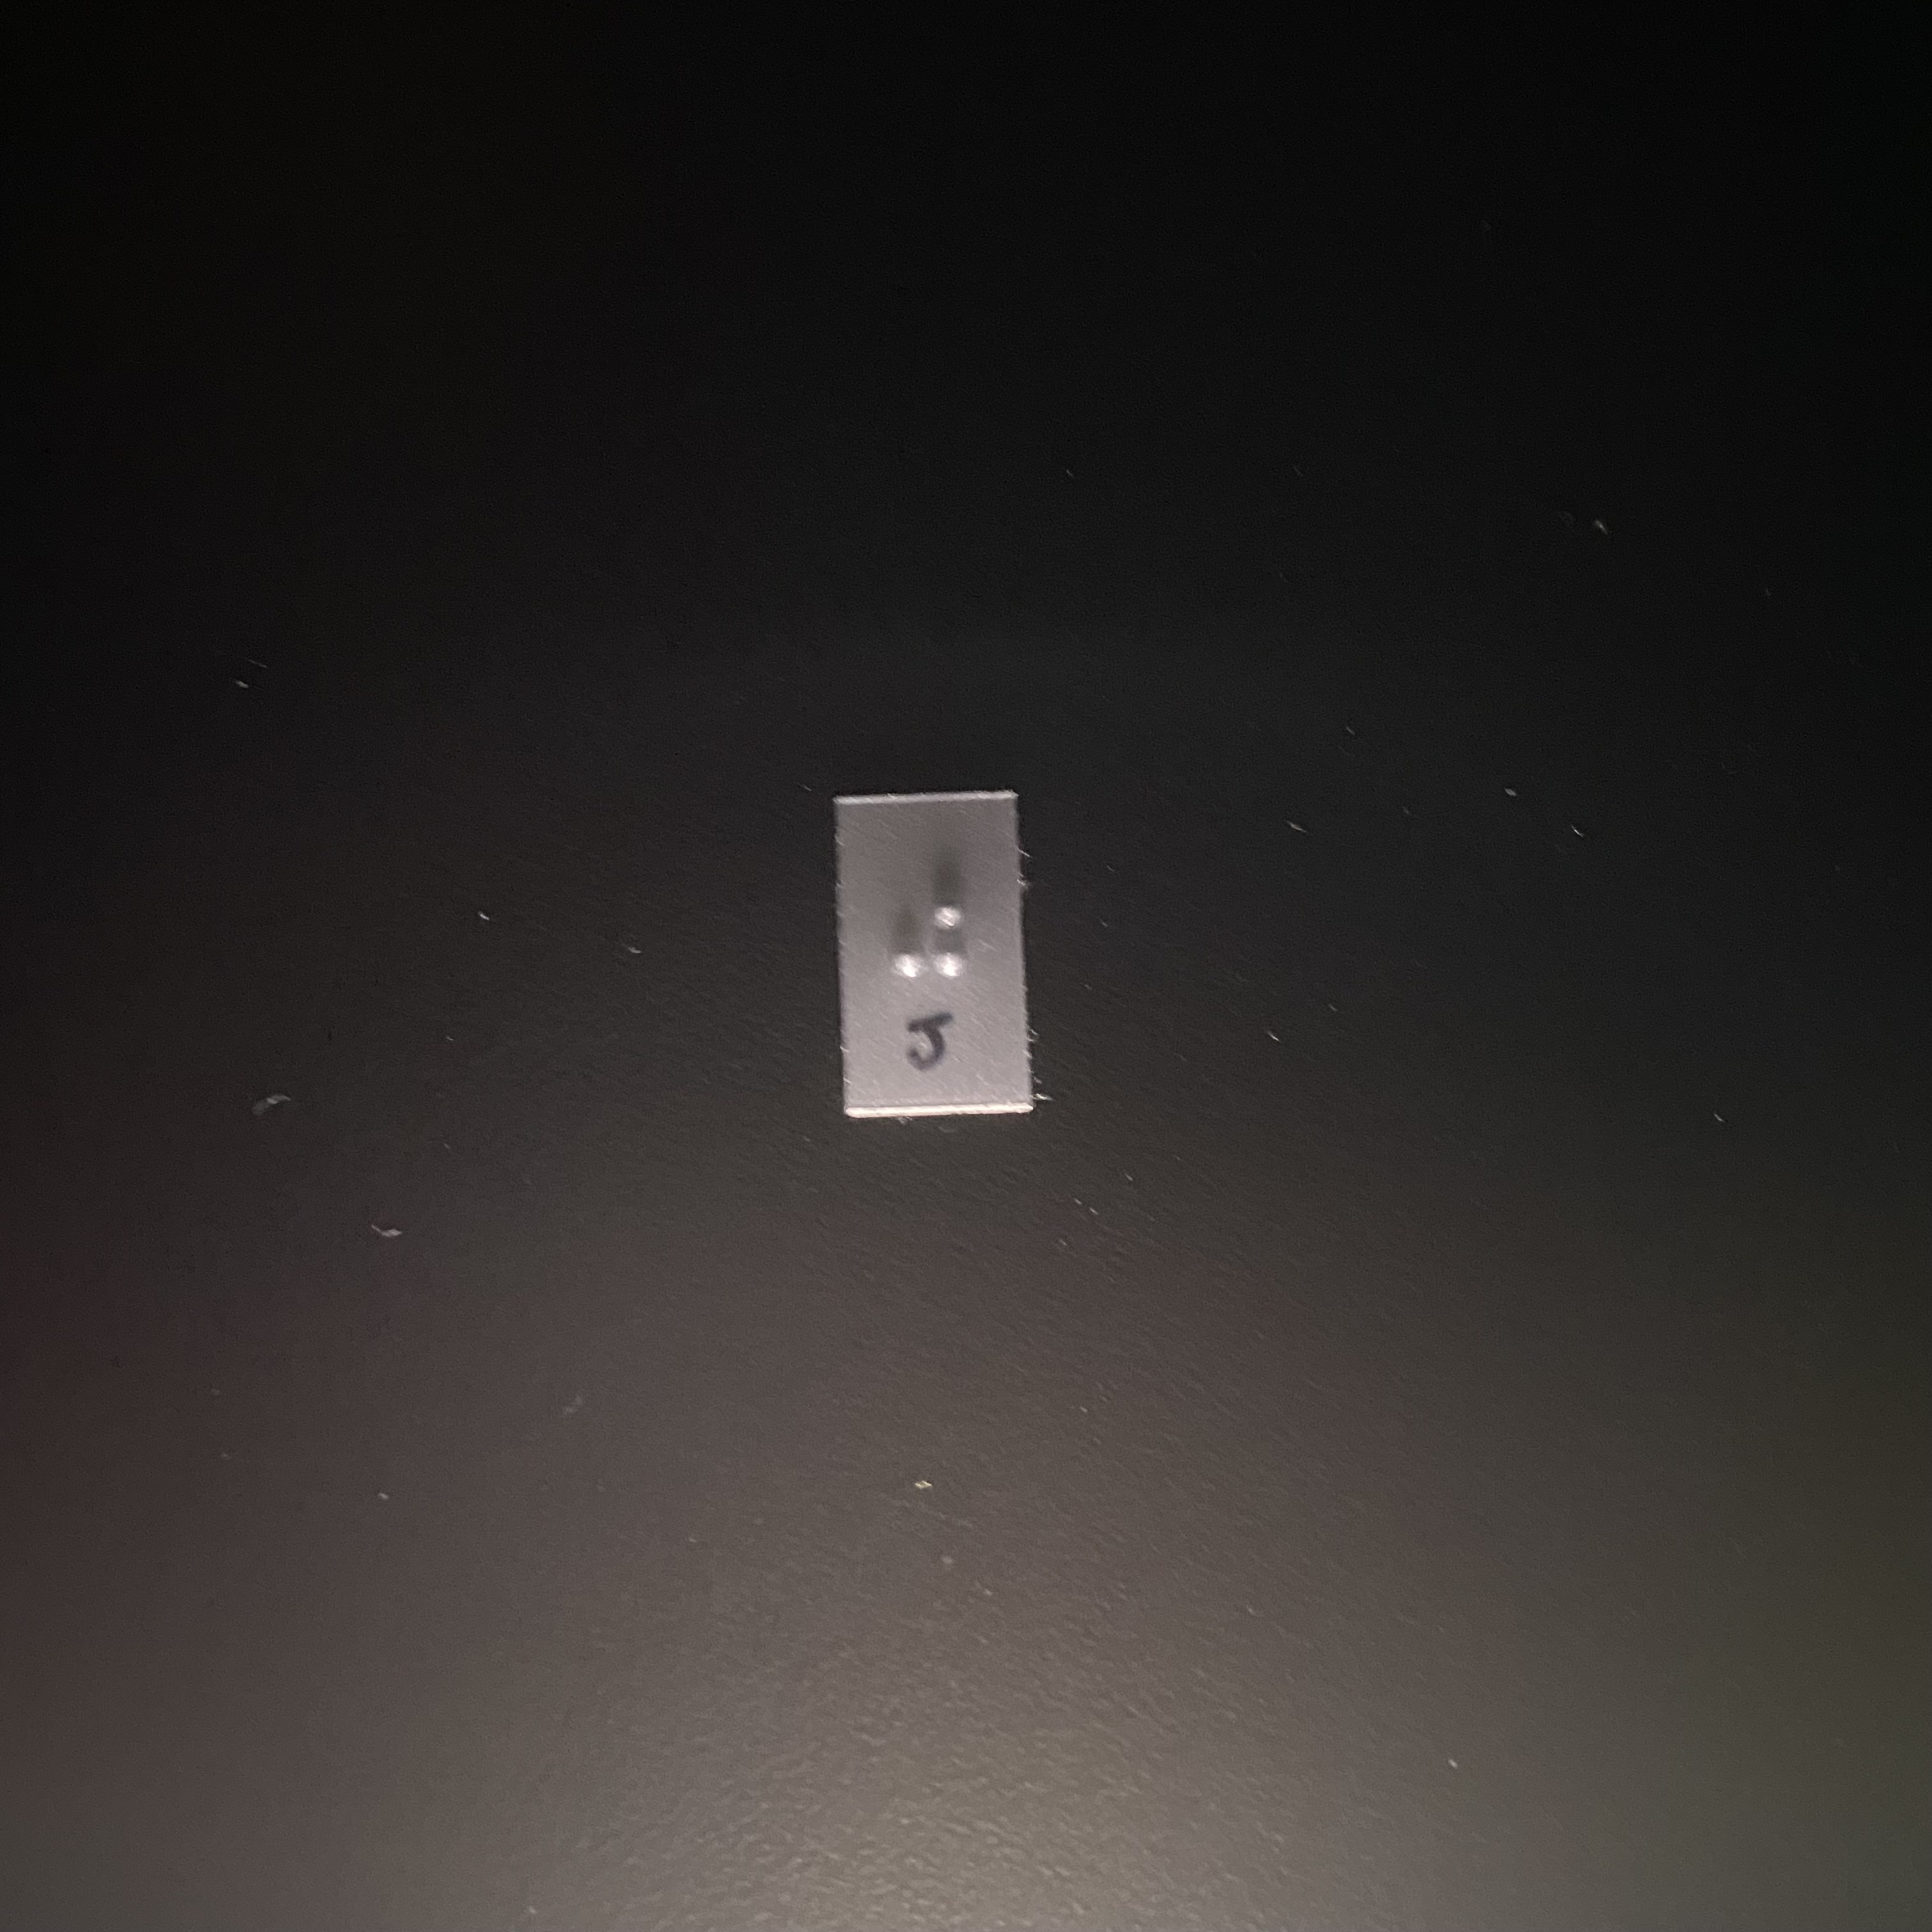j: (880, 881, 979, 1046)
